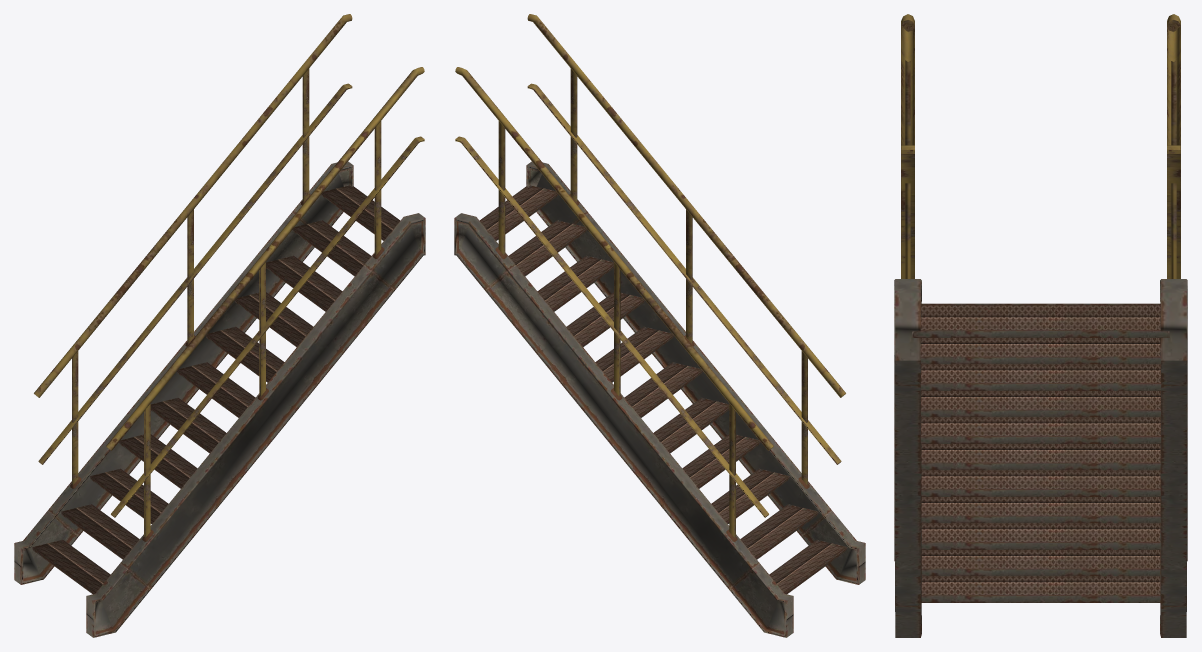
The model's file is stairs_300x600_single.glb.
3 renders of one model, left to right at view 1: azimuth 30°, elevation 25°; view 2: azimuth 150°, elevation 25°; view 3: azimuth 270°, elevation 25°, orthographic. The views are drawn at different scales.
Visible parts, largest first — view 1: stairs_300x600_single; view 2: stairs_300x600_single; view 3: stairs_300x600_single.
Part boxes in pixels (box(x1,y1,x2,y2)): stairs_300x600_single: box(14, 14, 425, 637); stairs_300x600_single: box(454, 14, 865, 637); stairs_300x600_single: box(894, 14, 1187, 637).
Bounding box in the file's own units: 3.06 × 4.28 × 1.27.
Materials: 1 (1 with a texture image).
